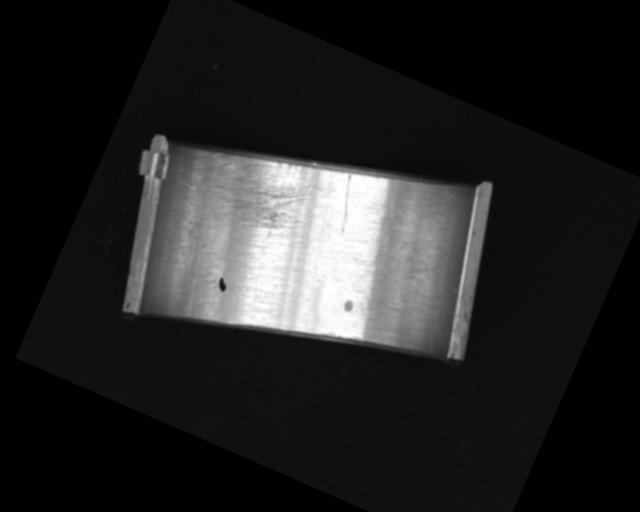blot: (215, 275, 230, 292)
bruise: (341, 298, 355, 313)
nick: (392, 263, 462, 353), (326, 173, 366, 233)
scratch: (193, 127, 326, 247)
